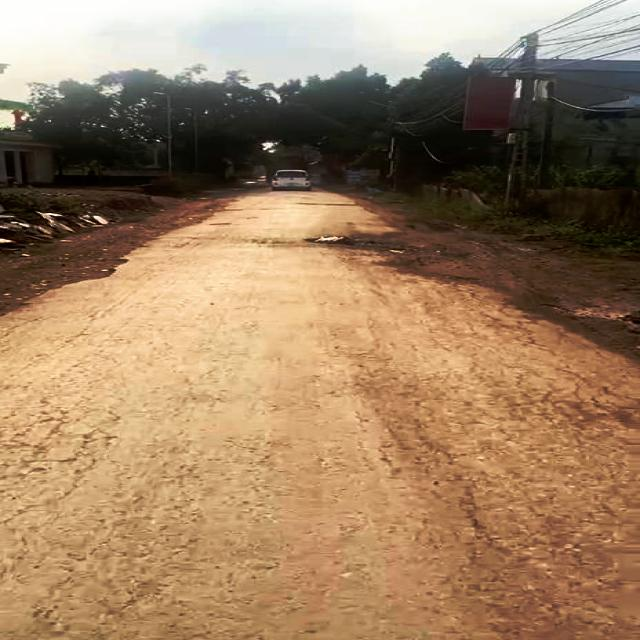pothole: (305, 234, 400, 251)
